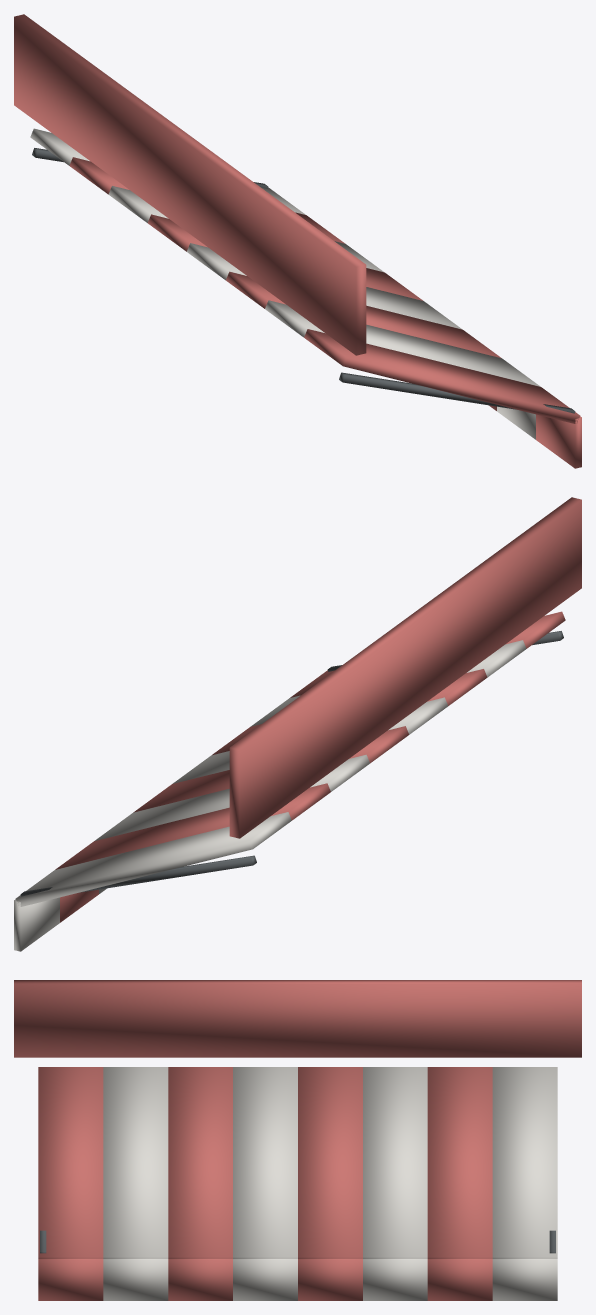
The model's file is awning_red.glb.
3 views of the same model, one above another, from view 1: azimuth 30°, elevation 25°; view 2: azimuth 150°, elevation 25°; view 3: azimuth 270°, elevation 25° (orthographic). The views are drawn at different scales.
Parts seen in each view (by area): view 1: awning_red; view 2: awning_red; view 3: awning_red.
Boxes of the visible parts, x1,y1,x2,y2 form: awning_red: (14, 14, 581, 468); awning_red: (14, 497, 581, 951); awning_red: (14, 980, 581, 1300).
Bounding box in the file's own units: 1.42 × 1.52 × 3.5.
